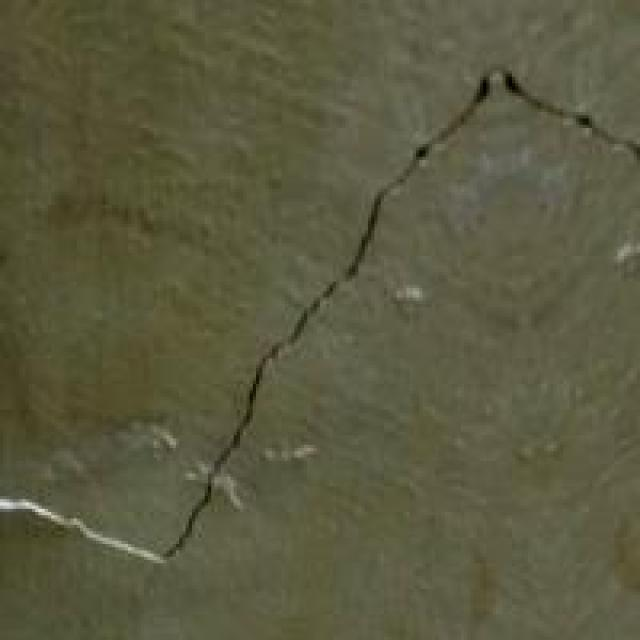crack: (0, 64, 640, 588)
